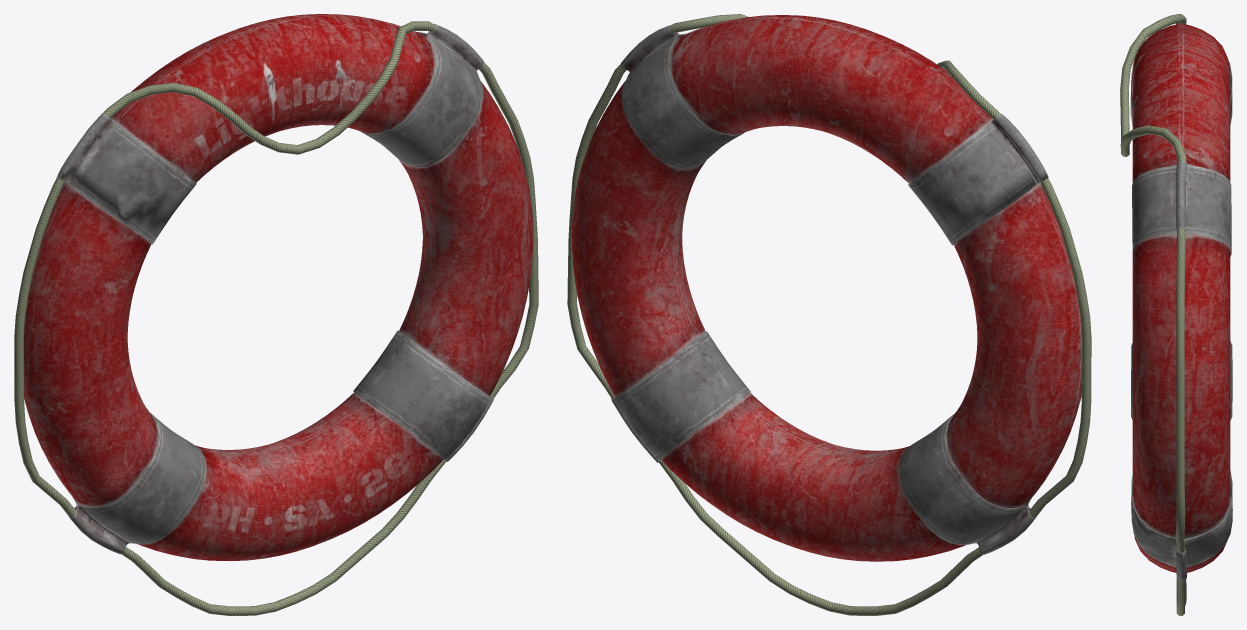
Rendered from lifebuoy.glb.
3 renders of one model, left to right at view 1: azimuth 30°, elevation 25°; view 2: azimuth 150°, elevation 25°; view 3: azimuth 270°, elevation 25°, orthographic. The views are drawn at different scales.
Parts seen in each view (by area): view 1: lifebuoy; view 2: lifebuoy; view 3: lifebuoy.
Boxes of the visible parts, x1,y1,x2,y2 form: lifebuoy: (14,14,538,615); lifebuoy: (567,14,1091,615); lifebuoy: (1120,14,1232,615).
Size of the model in its own units: 0.783 by 0.8412 by 0.1551.
Materials: 1 (1 with a texture image).
